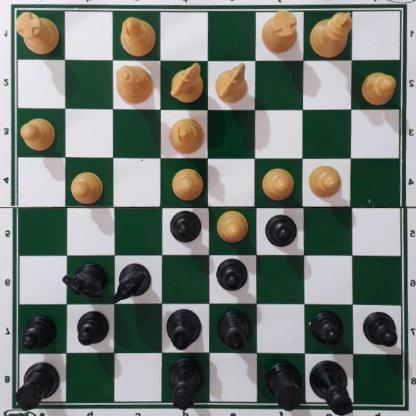black-bishop: (216, 308, 254, 350), (167, 310, 202, 351)
black-king: (310, 358, 351, 415)
black-knight: (62, 265, 106, 300), (111, 266, 151, 304)
black-pawn: (362, 311, 397, 349), (21, 317, 57, 352), (215, 260, 249, 296), (312, 312, 344, 349), (170, 212, 202, 247), (265, 215, 297, 250), (76, 312, 106, 349)
black-queen: (166, 359, 205, 411)
black-rook: (13, 361, 62, 413), (264, 362, 303, 412)
white-bishop: (119, 17, 154, 58), (170, 119, 204, 156)
white-king: (309, 11, 353, 59)
white-knight: (215, 64, 249, 105), (169, 65, 204, 103)
white-pawn: (308, 165, 342, 203), (19, 119, 56, 153), (360, 72, 396, 106), (215, 213, 249, 246), (70, 173, 103, 206), (262, 169, 294, 203), (171, 169, 202, 203)
white-queen: (116, 63, 152, 108)
white-rook: (14, 13, 59, 56), (261, 12, 299, 55)
